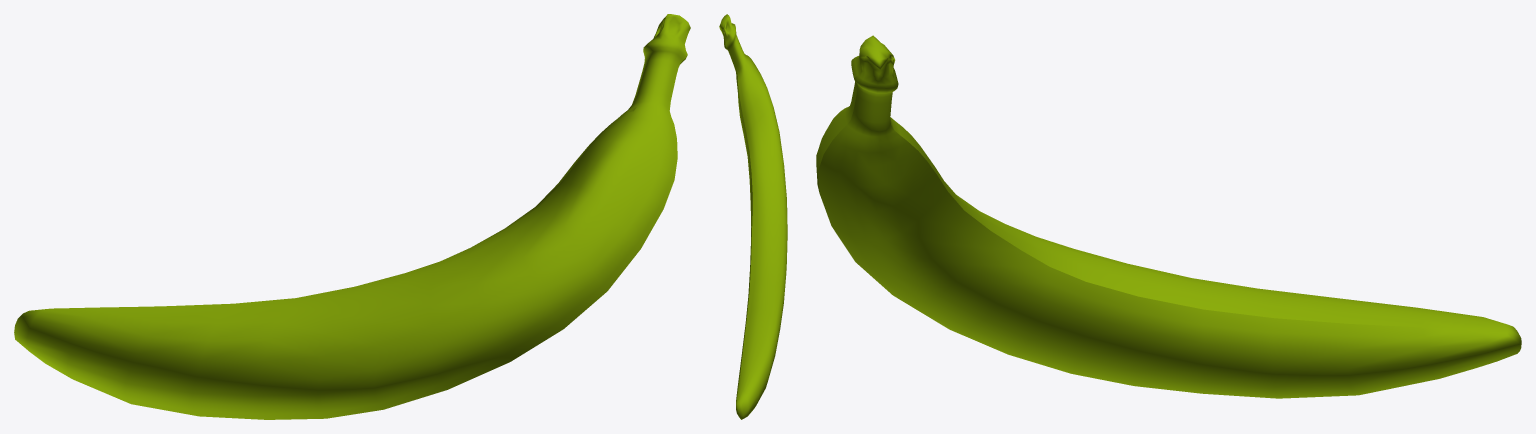
File: Plantain_Model.fbx
3 renders of one model, left to right at view 1: azimuth 30°, elevation 25°; view 2: azimuth 150°, elevation 25°; view 3: azimuth 270°, elevation 25°, orthographic. The views are drawn at different scales.
Visible parts, largest first — view 1: null_11; view 2: null_11; view 3: null_11.
Boxes of the visible parts, x1,y1,x2,y2 form: null_11: (14,14,690,419); null_11: (719,14,787,419); null_11: (816,35,1521,398).
Size of the model in its own units: 64.41 by 84.85 by 107.
